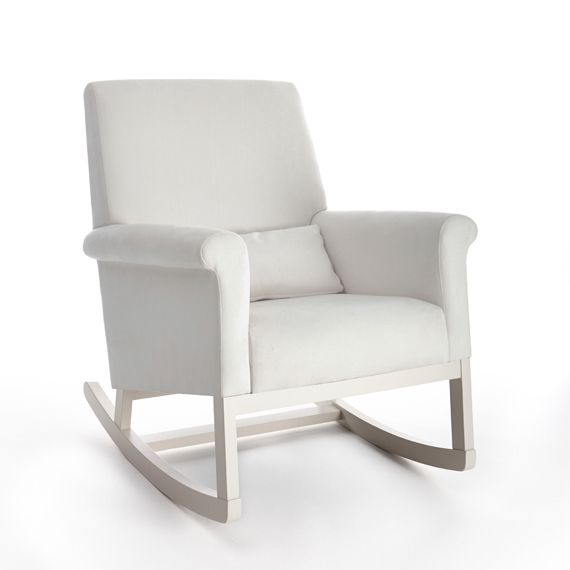chairs: (68, 75, 496, 527)
